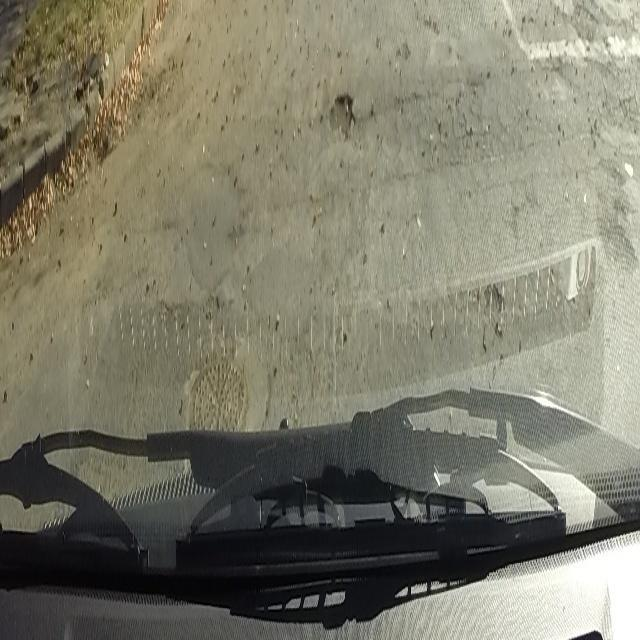pothole: (328, 80, 356, 154)
